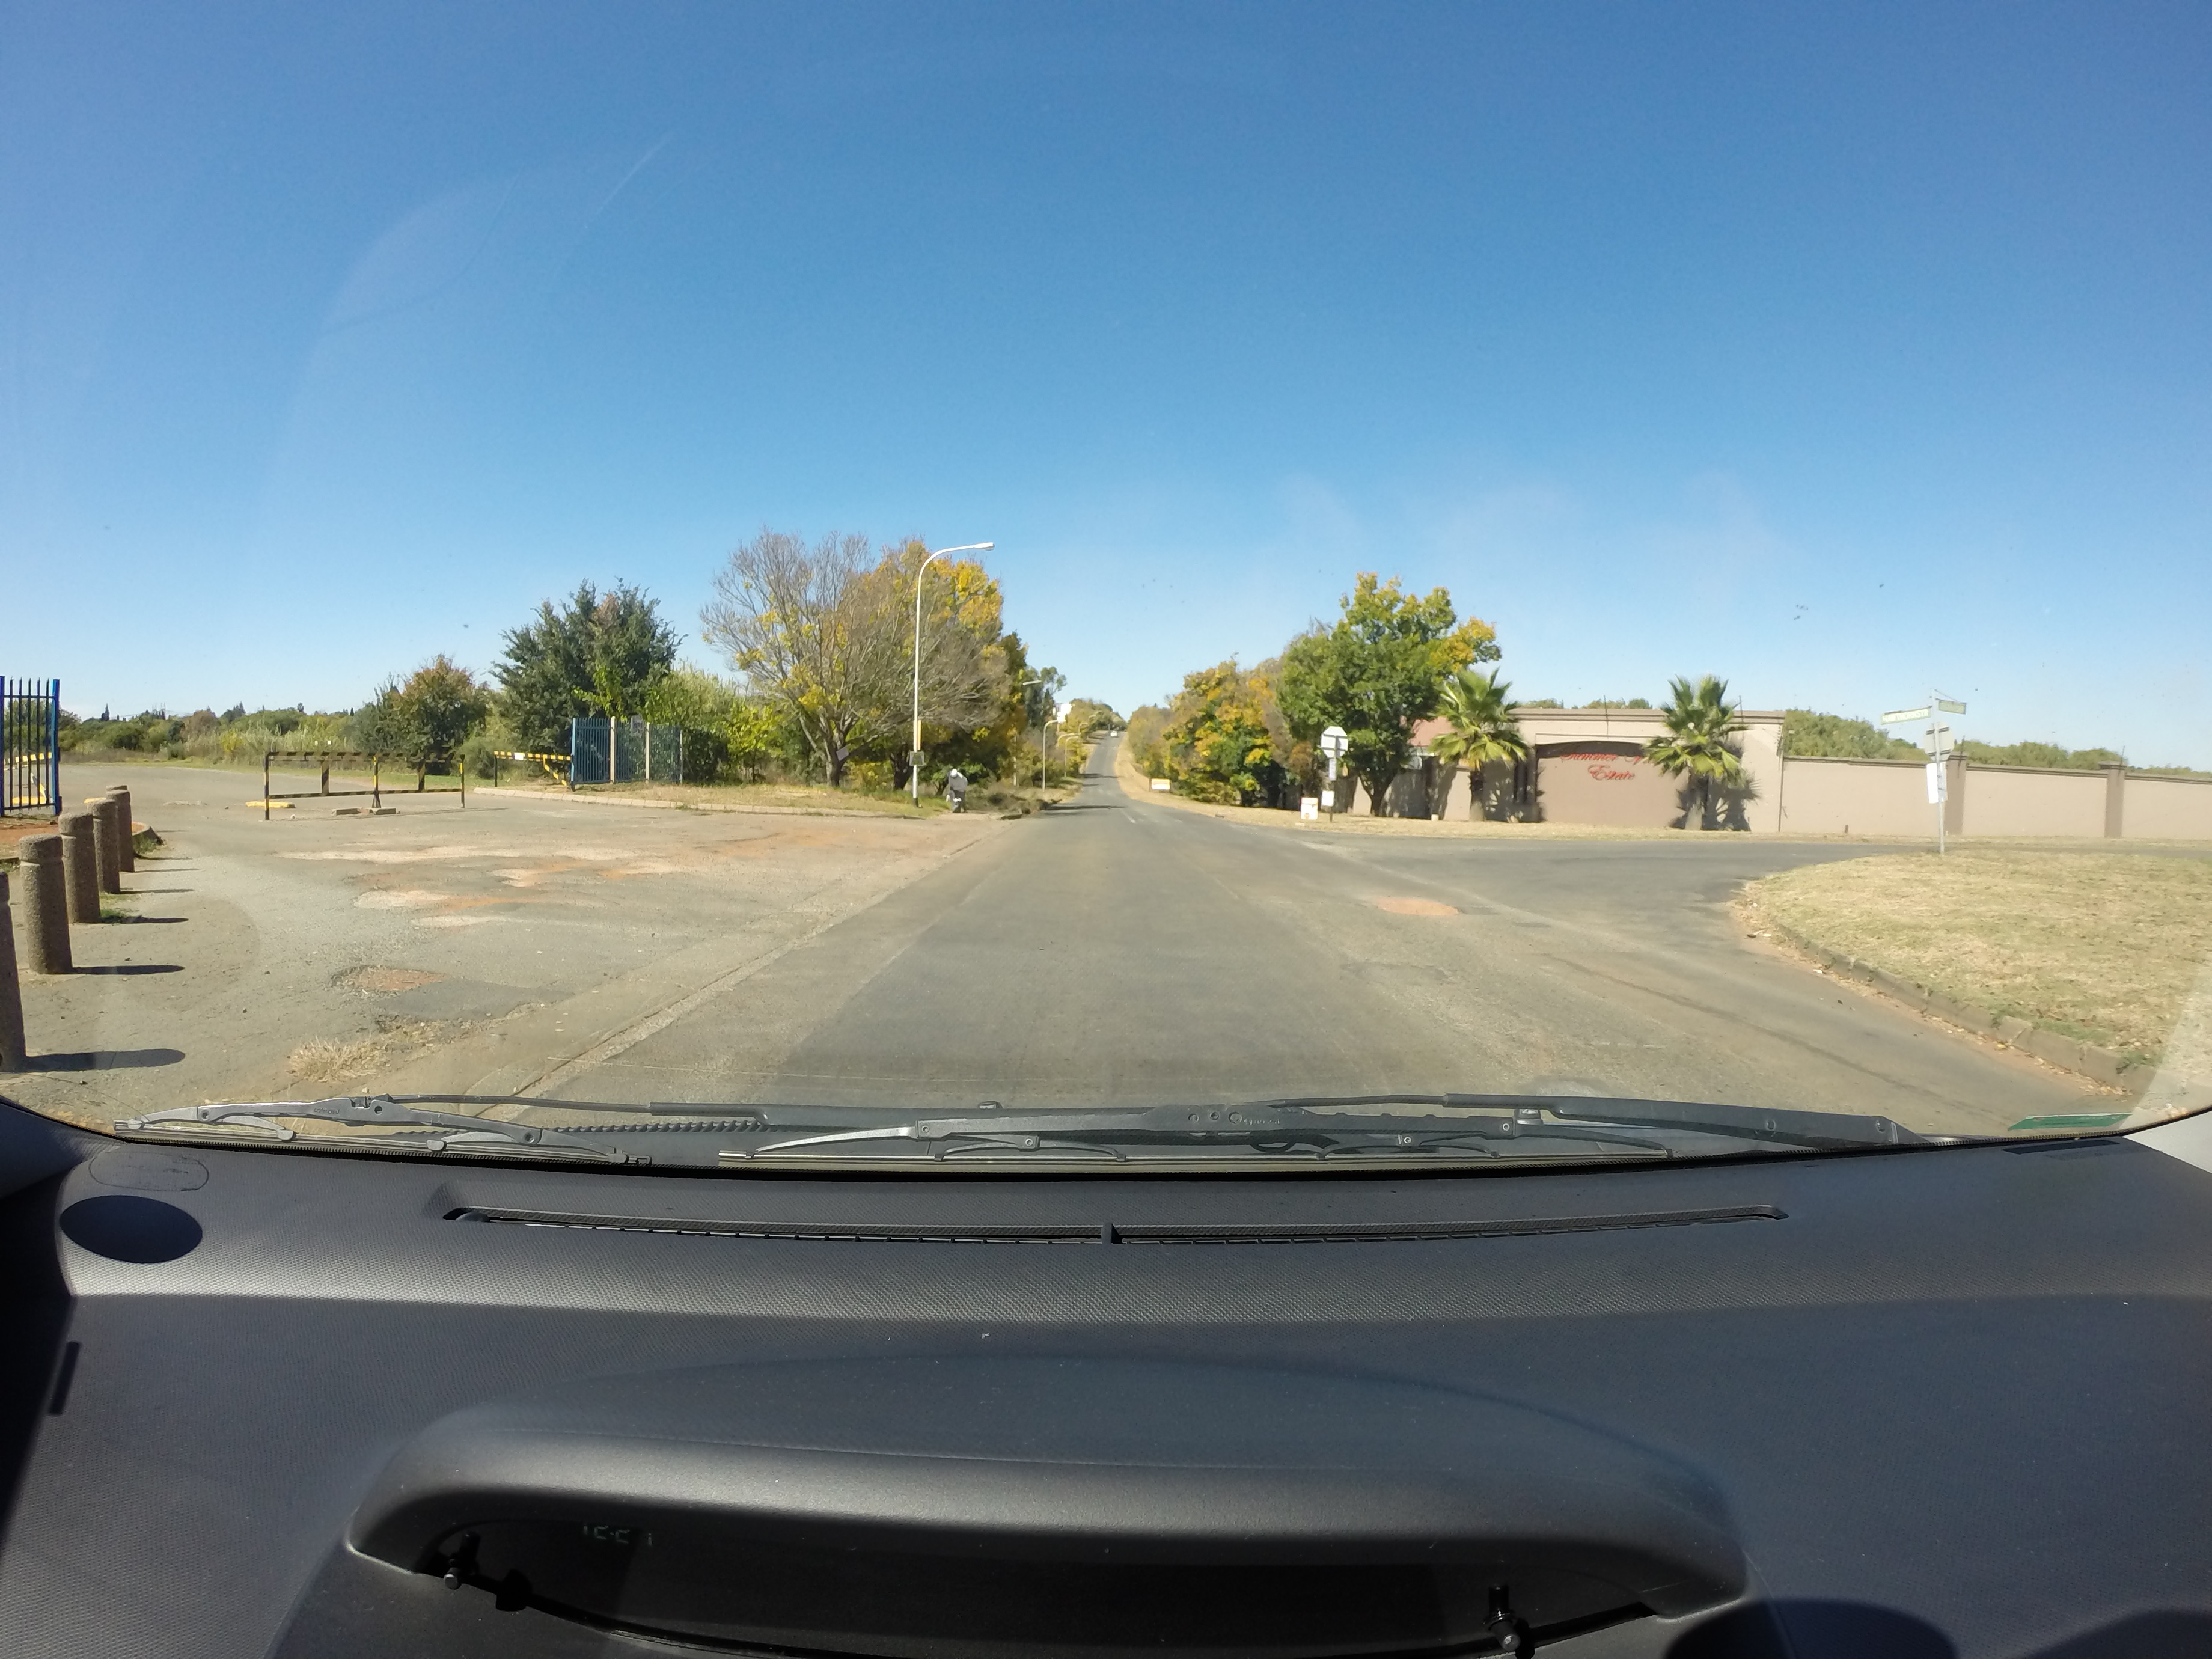pothole: (1367, 889, 1470, 922)
